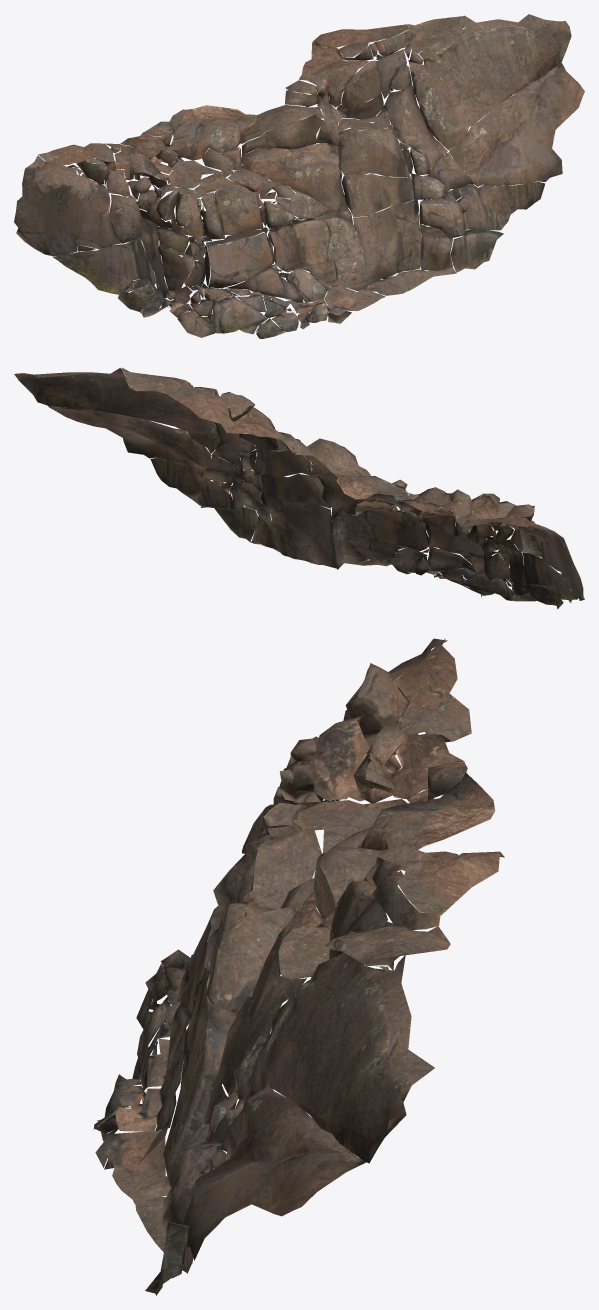
The model's file is namaqualand_cliff_02_lod1.glb.
The picture shows the model from 3 angles, top to bottom: view 1: azimuth 30°, elevation 25°; view 2: azimuth 150°, elevation 25°; view 3: azimuth 270°, elevation 25°; orthographic projection. The views are drawn at different scales.
Parts seen in each view (by area): view 1: namaqualand_cliff_02; view 2: namaqualand_cliff_02; view 3: namaqualand_cliff_02.
Boxes of the visible parts, <box> form: namaqualand_cliff_02: <box>14,14,584,338</box>; namaqualand_cliff_02: <box>14,367,584,608</box>; namaqualand_cliff_02: <box>93,638,504,1295</box>.
Size of the model in its own units: 17.96 by 6.4 by 5.83.
1 material, 1 textured.
